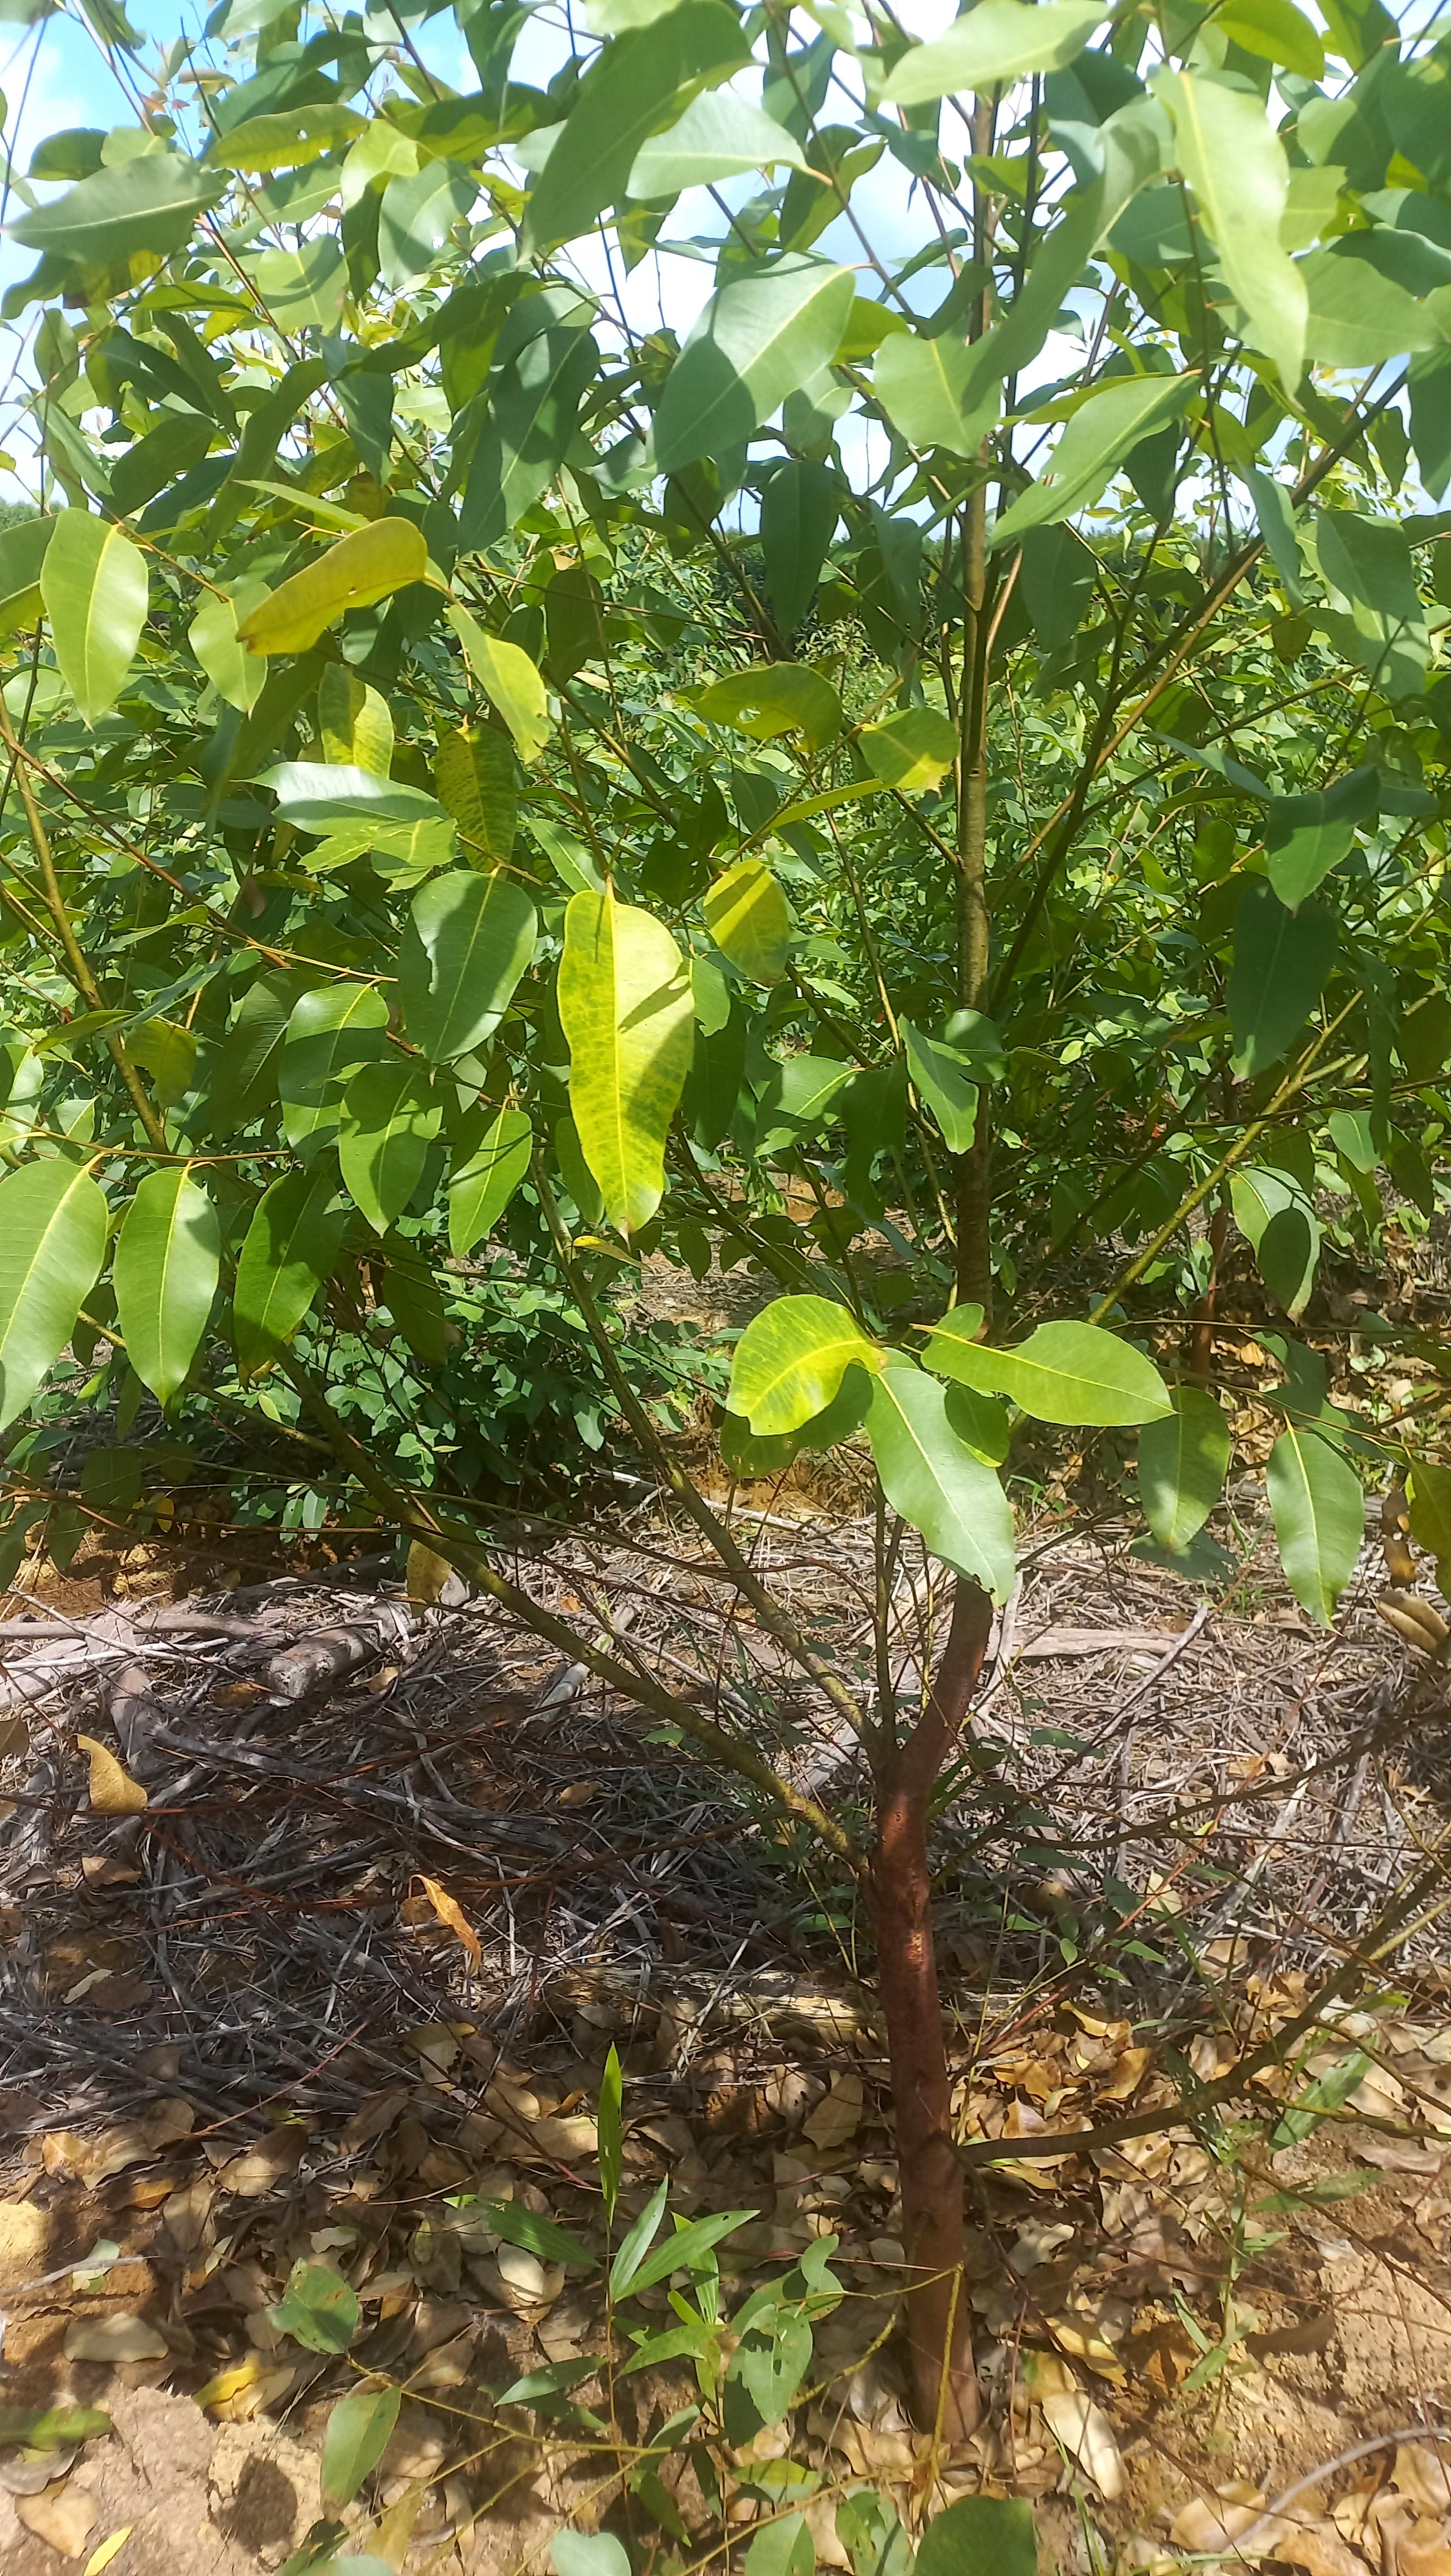Wither Tree Parts: (53, 1470, 495, 1854), (557, 883, 690, 1238), (694, 656, 963, 794), (226, 511, 423, 639), (699, 844, 830, 1008), (731, 1293, 874, 1440), (1359, 1575, 1451, 1723), (434, 722, 522, 869), (313, 651, 398, 786)
